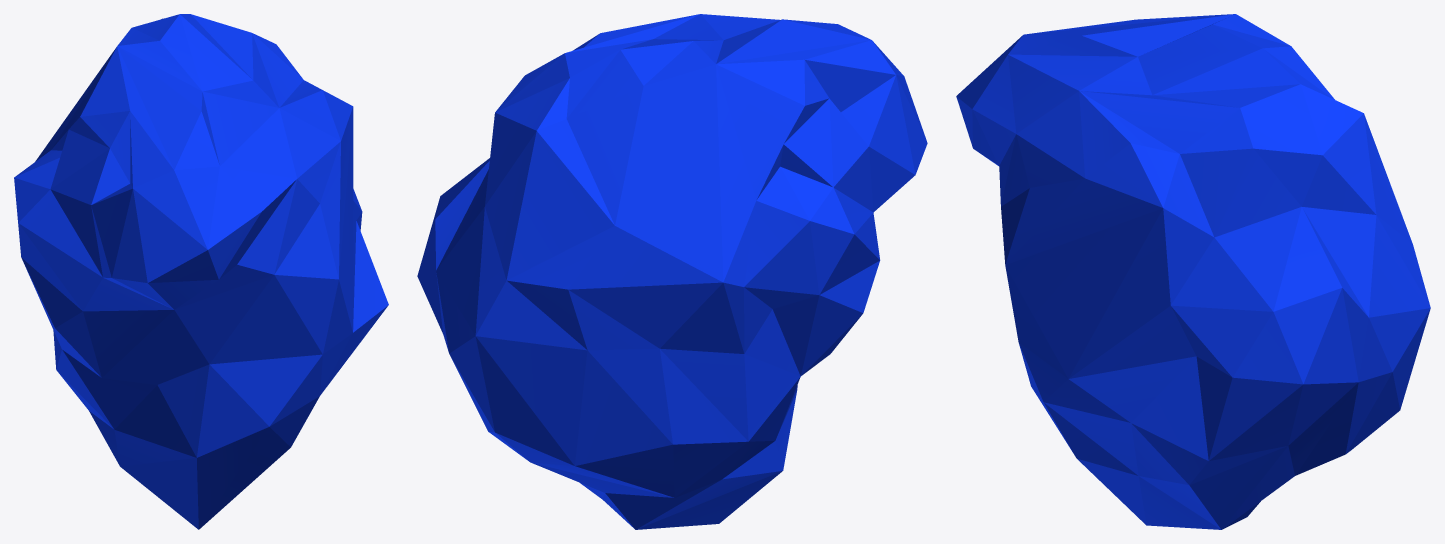
The model's file is SM_emissive_rock_19.fbx.
The picture shows the model from 3 angles, left to right: view 1: azimuth 30°, elevation 25°; view 2: azimuth 150°, elevation 25°; view 3: azimuth 270°, elevation 25°; orthographic projection. The views are drawn at different scales.
Visible parts, largest first — view 1: emissive_rock_19; view 2: emissive_rock_19; view 3: emissive_rock_19.
Part boxes in pixels (x1=…): emissive_rock_19: x1=14, y1=14, x2=388, y2=529; emissive_rock_19: x1=417, y1=14, x2=927, y2=529; emissive_rock_19: x1=956, y1=14, x2=1430, y2=529.
Bounding box in the file's own units: 257 × 323 × 279.
